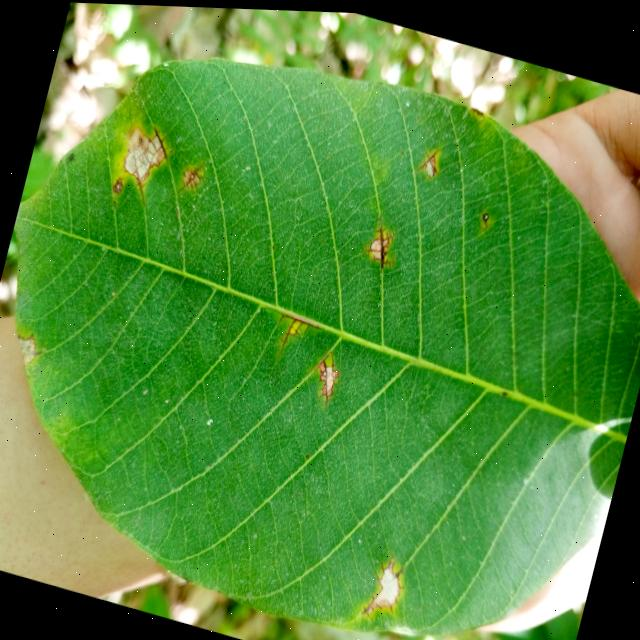Colletotrichum: (482, 207, 489, 217), (138, 135, 142, 142), (306, 451, 308, 455)
Corynespora: (362, 548, 412, 620), (270, 309, 322, 360), (362, 211, 406, 268), (307, 344, 346, 406), (177, 156, 206, 197), (146, 123, 177, 161), (416, 140, 442, 175), (131, 171, 150, 199), (111, 173, 127, 193)
Leaf-Blight: (120, 126, 168, 181), (372, 562, 403, 605)
